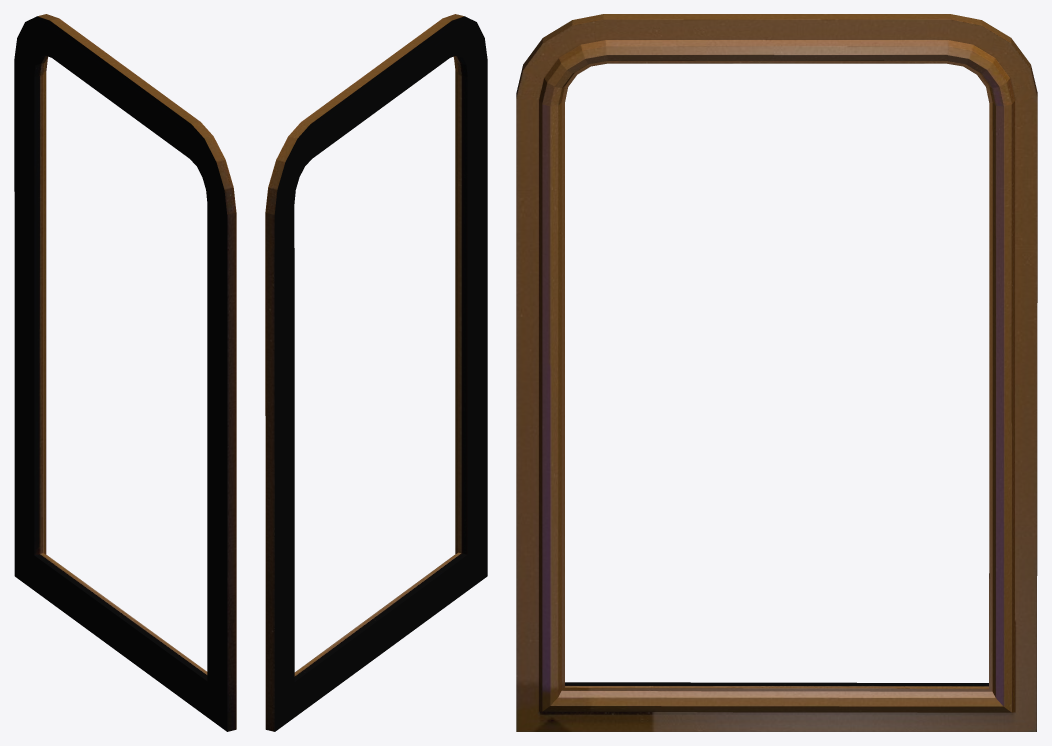
The model's file is mirror_frame.glb.
The picture shows the model from 3 angles, left to right: view 1: azimuth 30°, elevation 25°; view 2: azimuth 150°, elevation 25°; view 3: azimuth 270°, elevation 25°; orthographic projection. The views are drawn at different scales.
Parts seen in each view (by area): view 1: mirror_frame; view 2: mirror_frame; view 3: mirror_frame.
Part boxes in pixels (left/top/right/bottom): mirror_frame: left=14, top=14, right=236, bottom=731; mirror_frame: left=265, top=14, right=487, bottom=731; mirror_frame: left=516, top=14, right=1037, bottom=731.
Size of the model in its own units: 0.3024 by 9.7 by 6.44.
Materials: 1 (1 with a texture image).
